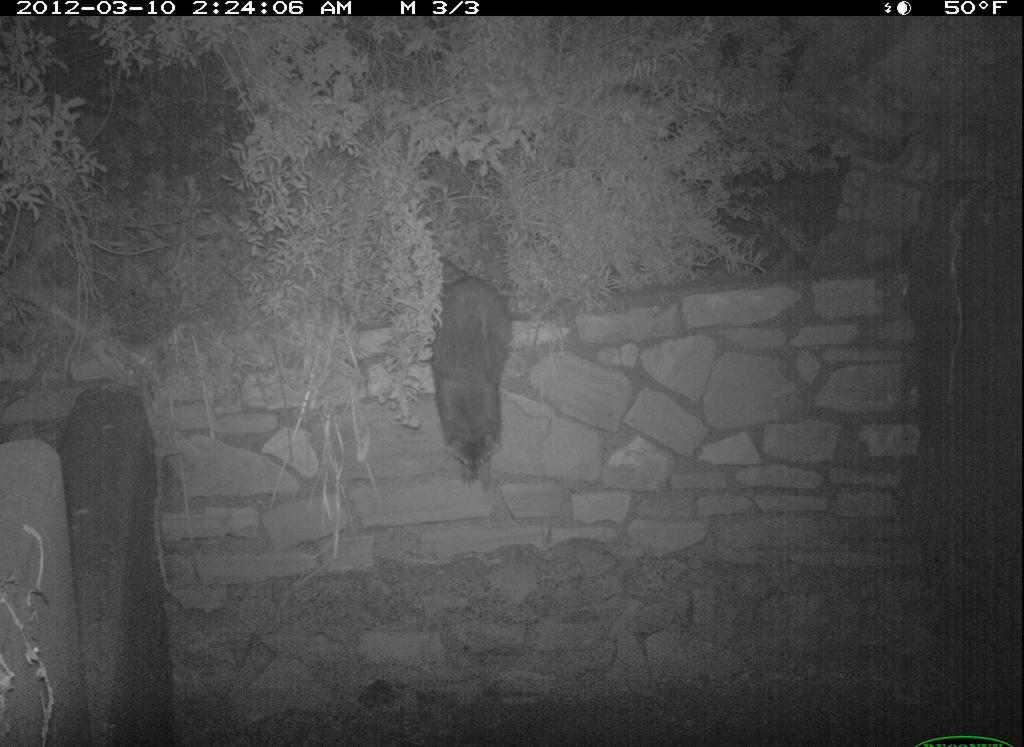raccoon: (424, 265, 519, 493)
